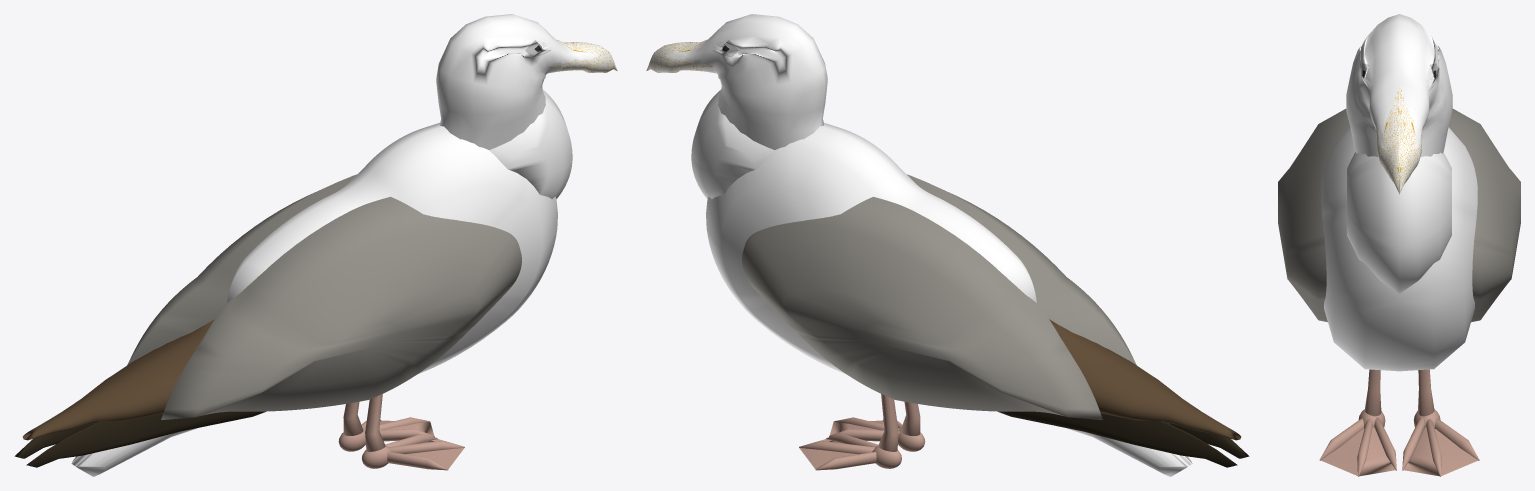
The model's file is seagull.dae.
3 views of the same model, side by side, from view 1: azimuth 30°, elevation 25°; view 2: azimuth 150°, elevation 25°; view 3: azimuth 270°, elevation 25° (orthographic). The views are drawn at different scales.
Parts seen in each view (by area): view 1: Group3, Group4, Group10, Group5, Group11, Group8, Group9, Group17, Group13, Group7, Group18; view 2: Group3, Group4, Group10, Group5, Group11, Group7, Group9, Group13, Group17, Group8, Group14; view 3: Group4, Group3, Group10, Group11, Group17, Group13, Group18, Group14, Group15, Group19, Group16, Group20.
Boxes of the visible parts, x1=… form: Group3: x1=127, y1=174, x2=521, y2=419; Group4: x1=227, y1=123, x2=557, y2=373; Group10: x1=436, y1=14, x2=617, y2=149; Group5: x1=22, y1=319, x2=214, y2=440; Group11: x1=489, y1=89, x2=572, y2=198; Group8: x1=26, y1=411, x2=265, y2=467; Group9: x1=71, y1=428, x2=197, y2=476; Group17: x1=365, y1=394, x2=464, y2=468; Group13: x1=343, y1=401, x2=433, y2=435; Group7: x1=14, y1=423, x2=94, y2=458; Group18: x1=387, y1=452, x2=448, y2=470; Group3: x1=742, y1=174, x2=1136, y2=419; Group4: x1=706, y1=123, x2=1036, y2=373; Group10: x1=646, y1=14, x2=827, y2=149; Group5: x1=1049, y1=319, x2=1241, y2=440; Group11: x1=691, y1=89, x2=774, y2=198; Group7: x1=998, y1=411, x2=1237, y2=467; Group9: x1=1066, y1=428, x2=1192, y2=476; Group13: x1=799, y1=394, x2=898, y2=469; Group17: x1=829, y1=401, x2=920, y2=435; Group8: x1=1169, y1=423, x2=1249, y2=458; Group14: x1=815, y1=452, x2=876, y2=470; Group4: x1=1321, y1=127, x2=1477, y2=371; Group3: x1=1278, y1=109, x2=1520, y2=322; Group10: x1=1346, y1=14, x2=1452, y2=194; Group11: x1=1347, y1=152, x2=1451, y2=293; Group17: x1=1321, y1=369, x2=1395, y2=476; Group13: x1=1403, y1=369, x2=1478, y2=476; Group18: x1=1319, y1=418, x2=1364, y2=460; Group14: x1=1435, y1=418, x2=1479, y2=460; Group15: x1=1402, y1=417, x2=1424, y2=470; Group19: x1=1374, y1=417, x2=1396, y2=470; Group16: x1=1426, y1=419, x2=1441, y2=476; Group20: x1=1357, y1=419, x2=1372, y2=476.
Bounding box in the file's own units: 15.84 × 4.73 × 10.41.
